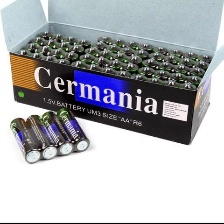battery: (25, 113, 59, 164), (8, 118, 42, 167), (41, 110, 73, 159), (58, 107, 88, 154)
book: (0, 0, 224, 147)
